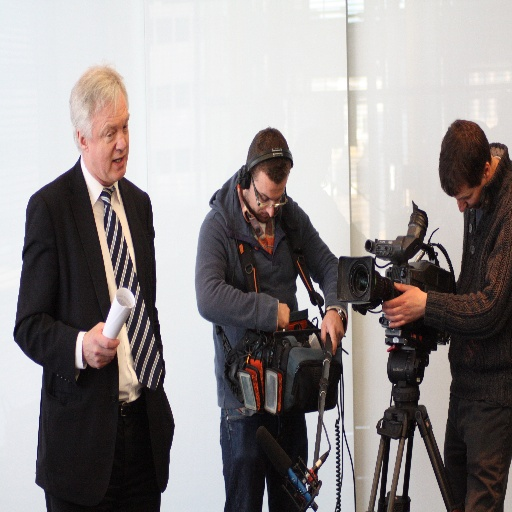hand: (391, 289, 444, 339), (80, 320, 118, 371), (320, 307, 343, 356), (277, 300, 290, 330)
